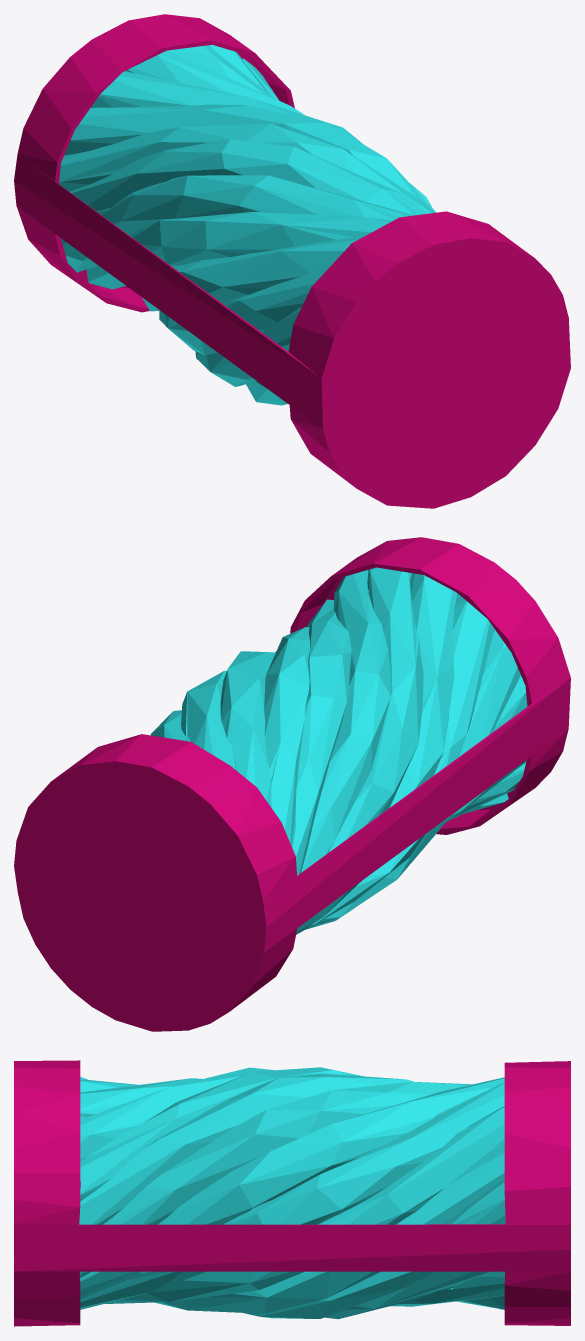
Rendered from Power_Line.fbx.
3 views of the same model, one above another, from view 1: azimuth 30°, elevation 25°; view 2: azimuth 150°, elevation 25°; view 3: azimuth 270°, elevation 25° (orthographic). The views are drawn at different scales.
Parts seen in each view (by area): view 1: Power_Cable_LOD0; view 2: Power_Cable_LOD0; view 3: Power_Cable_LOD0.
Boxes of the visible parts, bbox=[...] form: Power_Cable_LOD0: bbox=[14, 14, 570, 508]; Power_Cable_LOD0: bbox=[14, 537, 570, 1031]; Power_Cable_LOD0: bbox=[14, 1060, 570, 1326].
Size of the model in its own units: 200 by 200 by 420.
